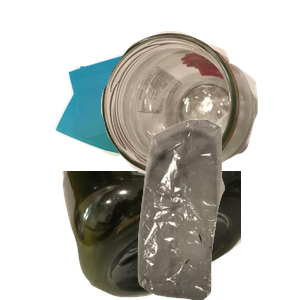glass: (98, 29, 300, 198)
paper: (52, 49, 209, 198)
plastic: (60, 171, 300, 300)
trash: (114, 120, 300, 300)
